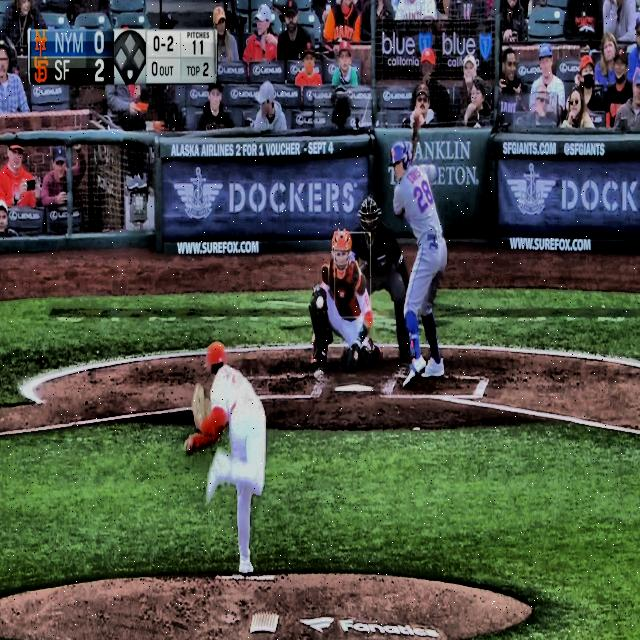baseball: (315, 295, 325, 311)
